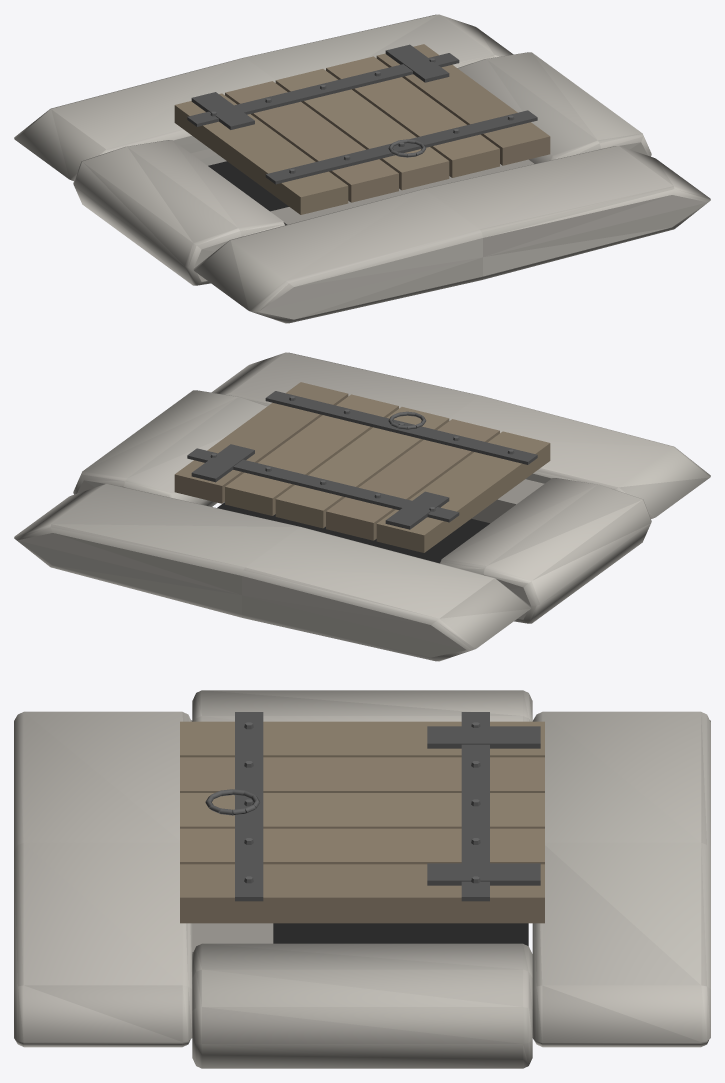
The model's file is storm_shelter_hatch_closed_a.glb.
The picture shows the model from 3 angles, top to bottom: view 1: azimuth 30°, elevation 25°; view 2: azimuth 150°, elevation 25°; view 3: azimuth 270°, elevation 25°; orthographic projection. The views are drawn at different scales.
Parts seen in each view (by area): view 1: body, hatch; view 2: body, hatch; view 3: body, hatch.
Part boxes in pixels (box(x1,y1,x2,y2)): body: box(14, 14, 710, 323); hatch: box(174, 44, 550, 214); body: box(14, 352, 710, 661); hatch: box(174, 382, 550, 552); body: box(14, 690, 710, 1068); hatch: box(180, 712, 544, 923).
Size of what is drawn, in the model's own units: 1.92 by 0.318 by 1.72.
